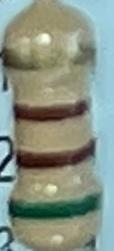Brown: (17, 139, 94, 173), (16, 99, 90, 124)
Green: (10, 191, 100, 219)
Side-Gold: (5, 41, 96, 72)
